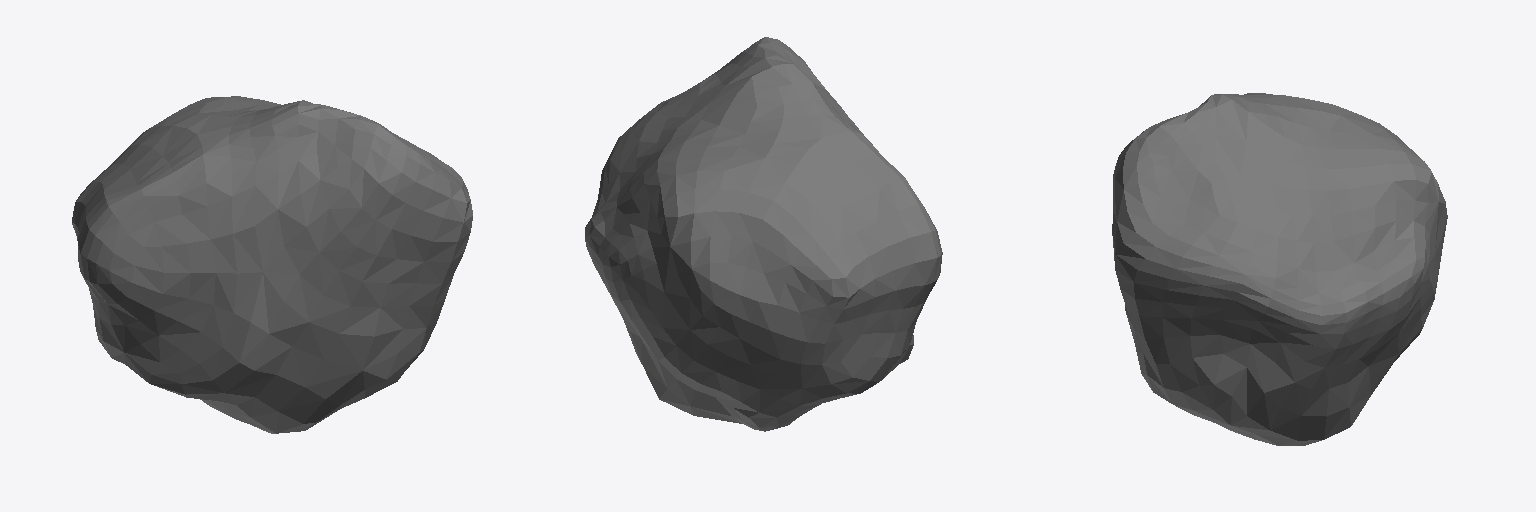
File: Rock_1.obj
3 renders of one model, left to right at view 1: azimuth 30°, elevation 25°; view 2: azimuth 150°, elevation 25°; view 3: azimuth 270°, elevation 25°, orthographic.
Parts seen in each view (by area): view 1: ZBrush_defualt_group; view 2: ZBrush_defualt_group; view 3: ZBrush_defualt_group.
Part boxes in pixels (x1,y1,x2,y2): ZBrush_defualt_group: (72, 96, 472, 433); ZBrush_defualt_group: (585, 37, 942, 431); ZBrush_defualt_group: (1112, 93, 1447, 445).
Bounding box in the file's own units: 3.09 × 2.87 × 2.6.